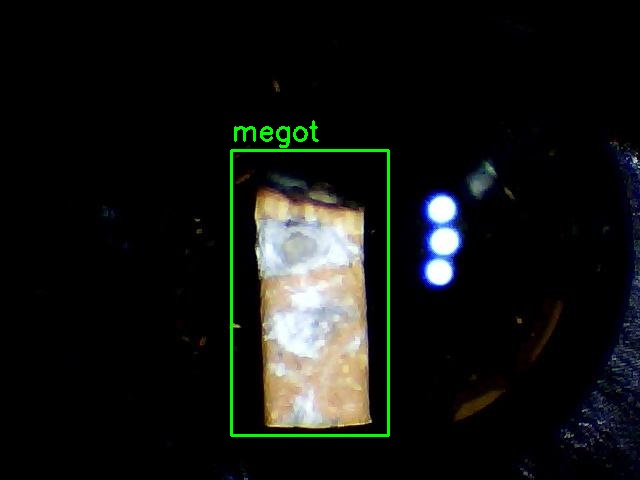megot: (231, 150, 388, 435)
